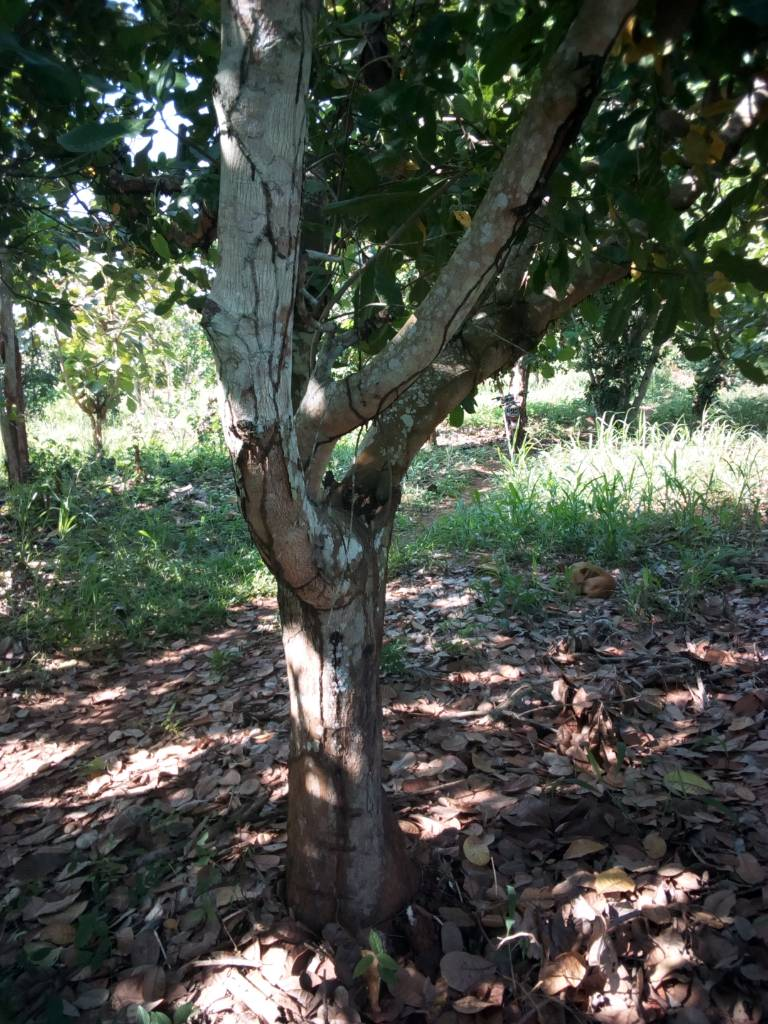Termites: (233, 30, 349, 619)
